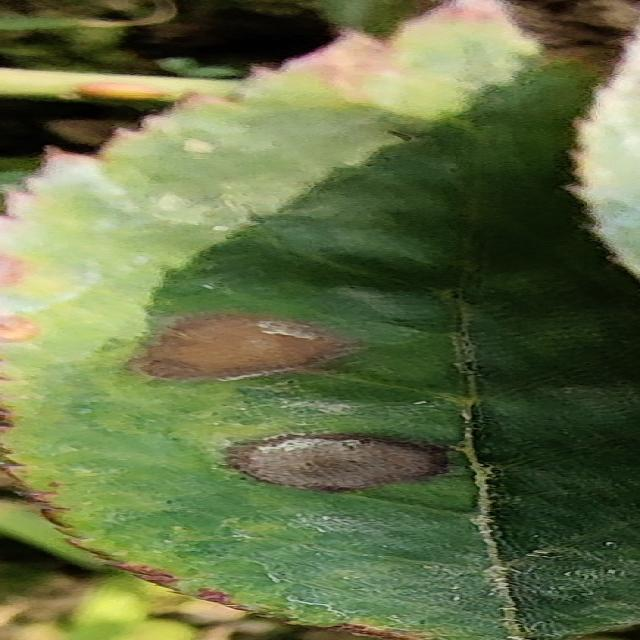Black_spot: (221, 425, 455, 495)
Rose: (1, 7, 638, 637)
